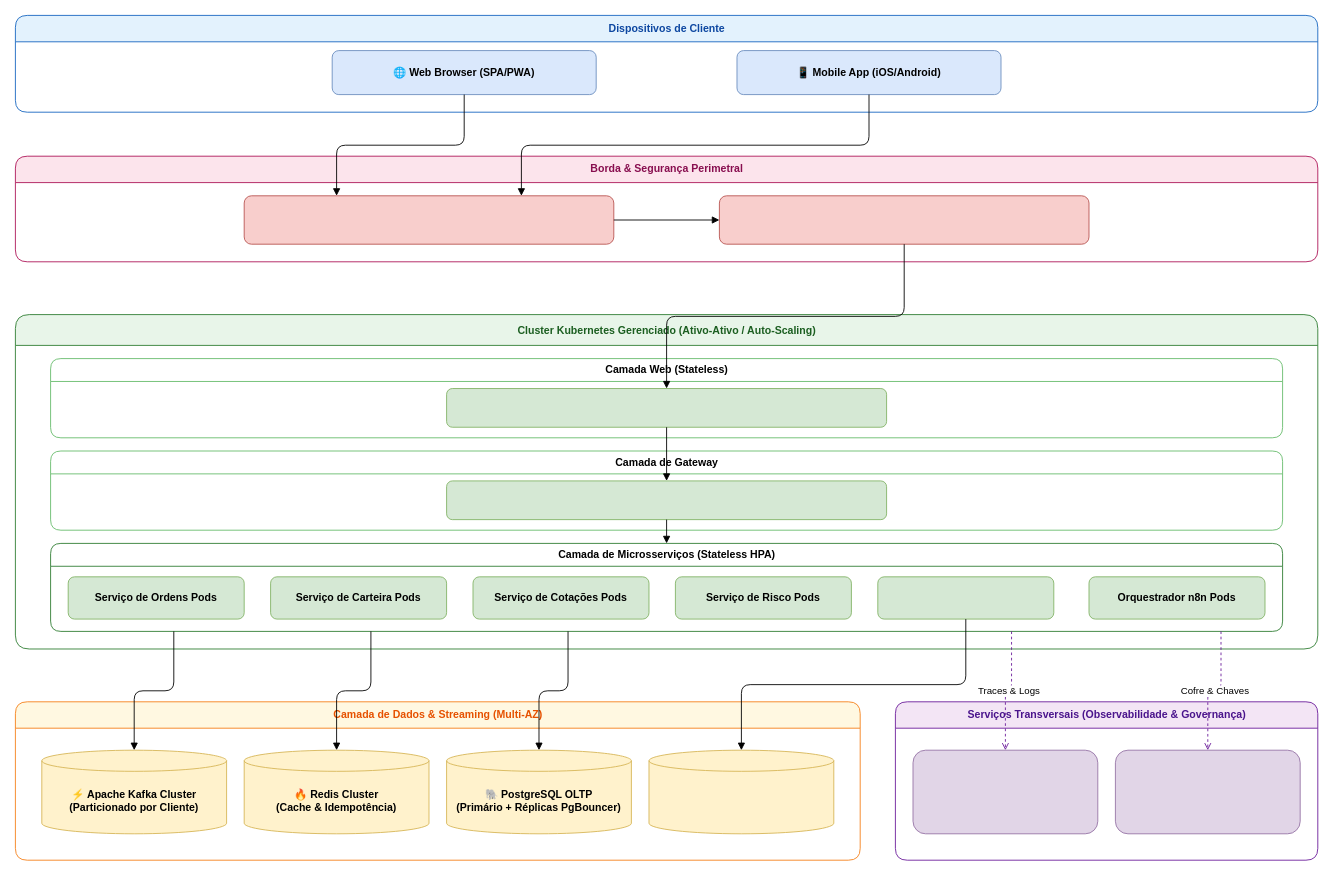
Image size: 1333x876. Some labels were removed from this diagram. Here are the shapes that lost their labels. From the top down, the centre of each, then its label:
At point (428, 219): "🛡️ CDN + WAF (Edge Security & DDoS Mitigation)".
At point (904, 219): "⚖️ Load Balancer L7 (TLS 1.3 Termination Multi-AZ)".
At point (666, 407): "Cluster Nginx (Reverse Proxy & BFF Proxy)".
At point (666, 500): "API Gateway Pods (AuthN/AuthZ & Quotas)".
At point (965, 597): "Agente Recomendação IA Pods".
At point (741, 791): "📊 Vector DB & Data Lake (RAG & CDC Debezium)".
At point (1005, 791): "📈 Observabilidade (OpenTelemetry / Prometheus / Grafana / ELK)".
At point (1207, 791): "🔐 Segurança (HashiCorp Vault / mTLS / HSM)".
